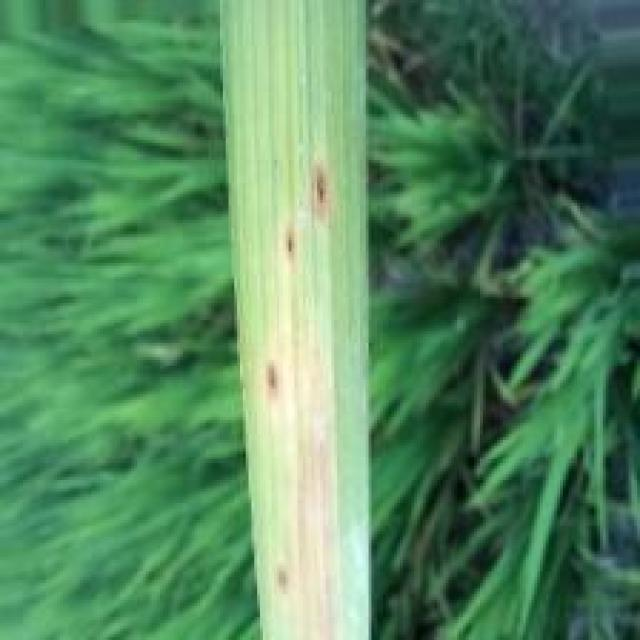Brown_Spot: (311, 168, 331, 206), (266, 359, 278, 398), (285, 229, 300, 257)
